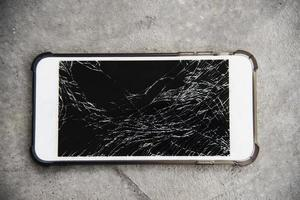Crack: (26, 53, 260, 170)
